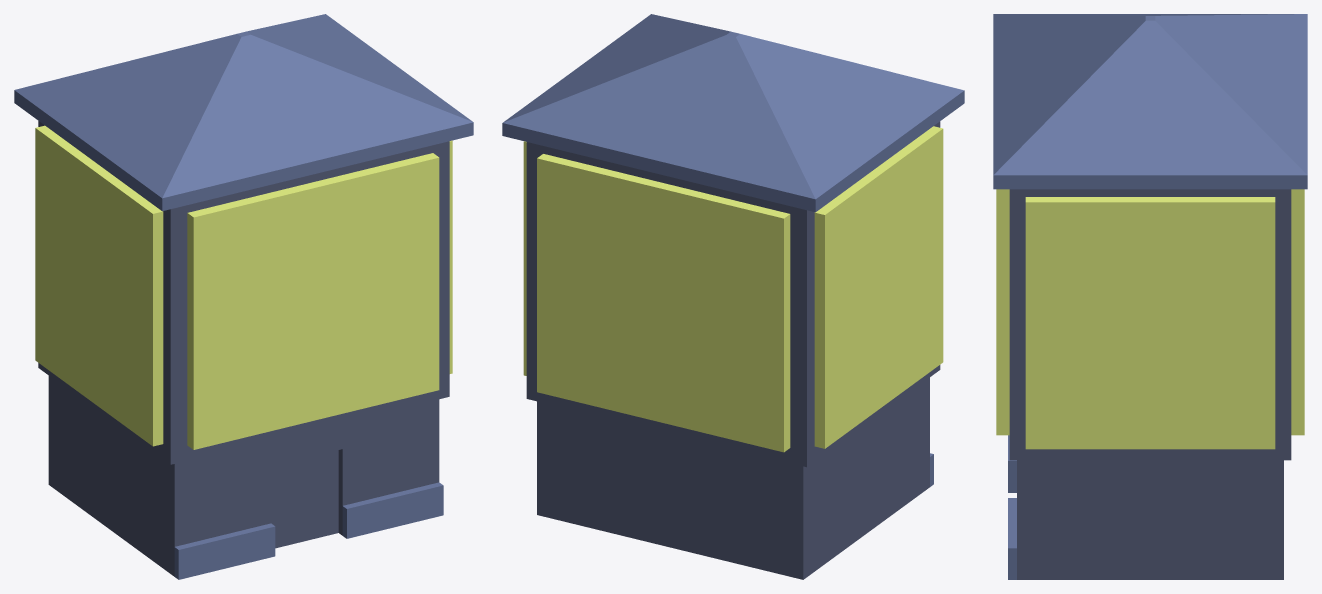
The model's file is yellowAdsTotem.fbx.
3 views of the same model, side by side, from view 1: azimuth 30°, elevation 25°; view 2: azimuth 150°, elevation 25°; view 3: azimuth 270°, elevation 25° (orthographic). The views are drawn at different scales.
Visible parts, largest first — view 1: yellowAdsTotem; view 2: yellowAdsTotem; view 3: yellowAdsTotem.
Boxes of the visible parts, left/top/right/bottom form: yellowAdsTotem: left=14, top=14, right=473, bottom=579; yellowAdsTotem: left=502, top=14, right=964, bottom=579; yellowAdsTotem: left=993, top=14, right=1307, bottom=579.
Bounding box in the file's own units: 1248 × 1777 × 1027.
